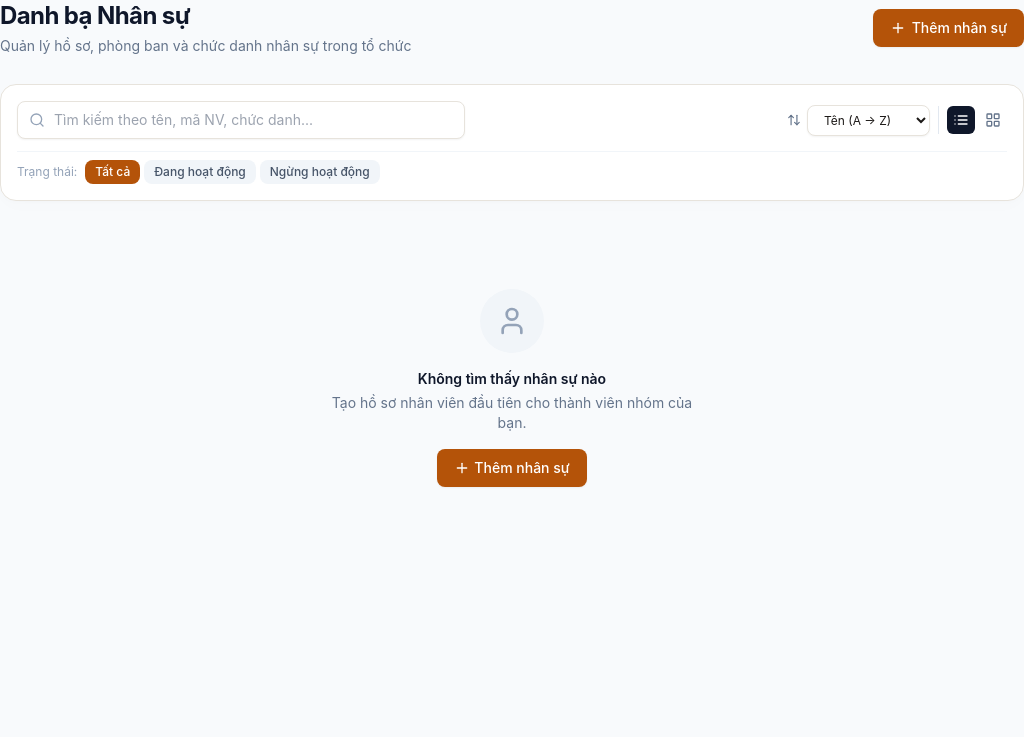
PeoplePage › opens create modal on clicking New Employee
The image size is (1024, 737).
Click the button "Thêm nhân sự" in the row of "Danh bạ Nhân sự" at coordinates (948, 28), box [873,9,1023,47]
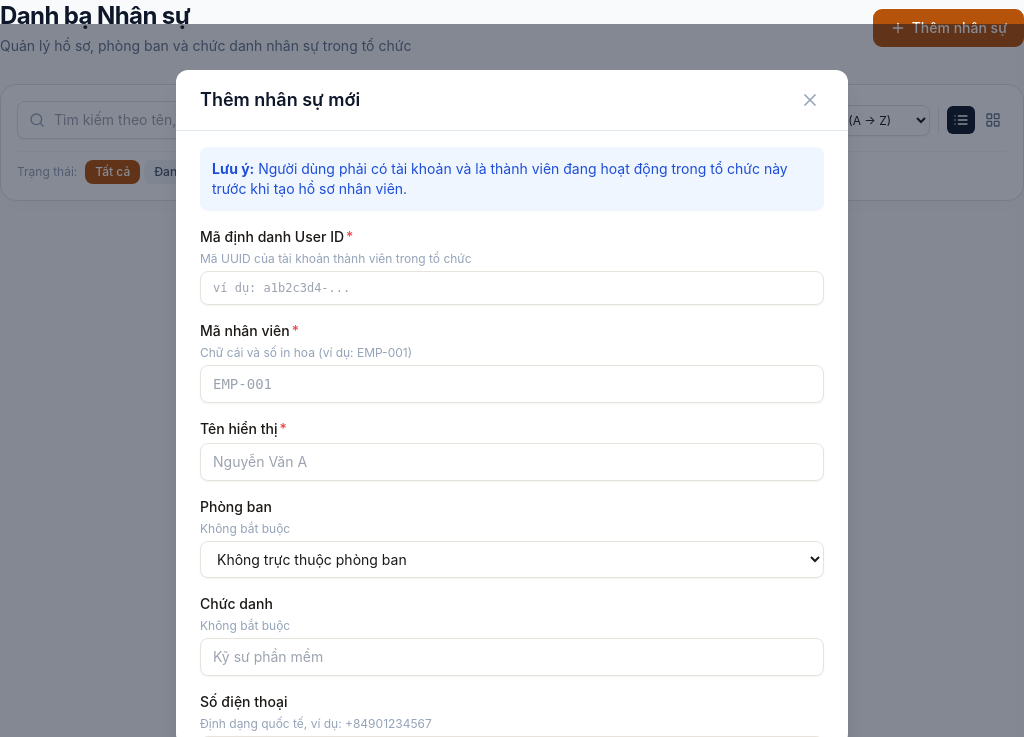
Expected: the heading "Thêm nhân sự mới" is shown, [200,86,360,114]
Expected: the field with placeholder "ví dụ: a1b2c3d4-..." is shown, [200,271,824,305]
Expected: the field labelled "Tên hiển thị*" is shown, [200,443,824,481]
